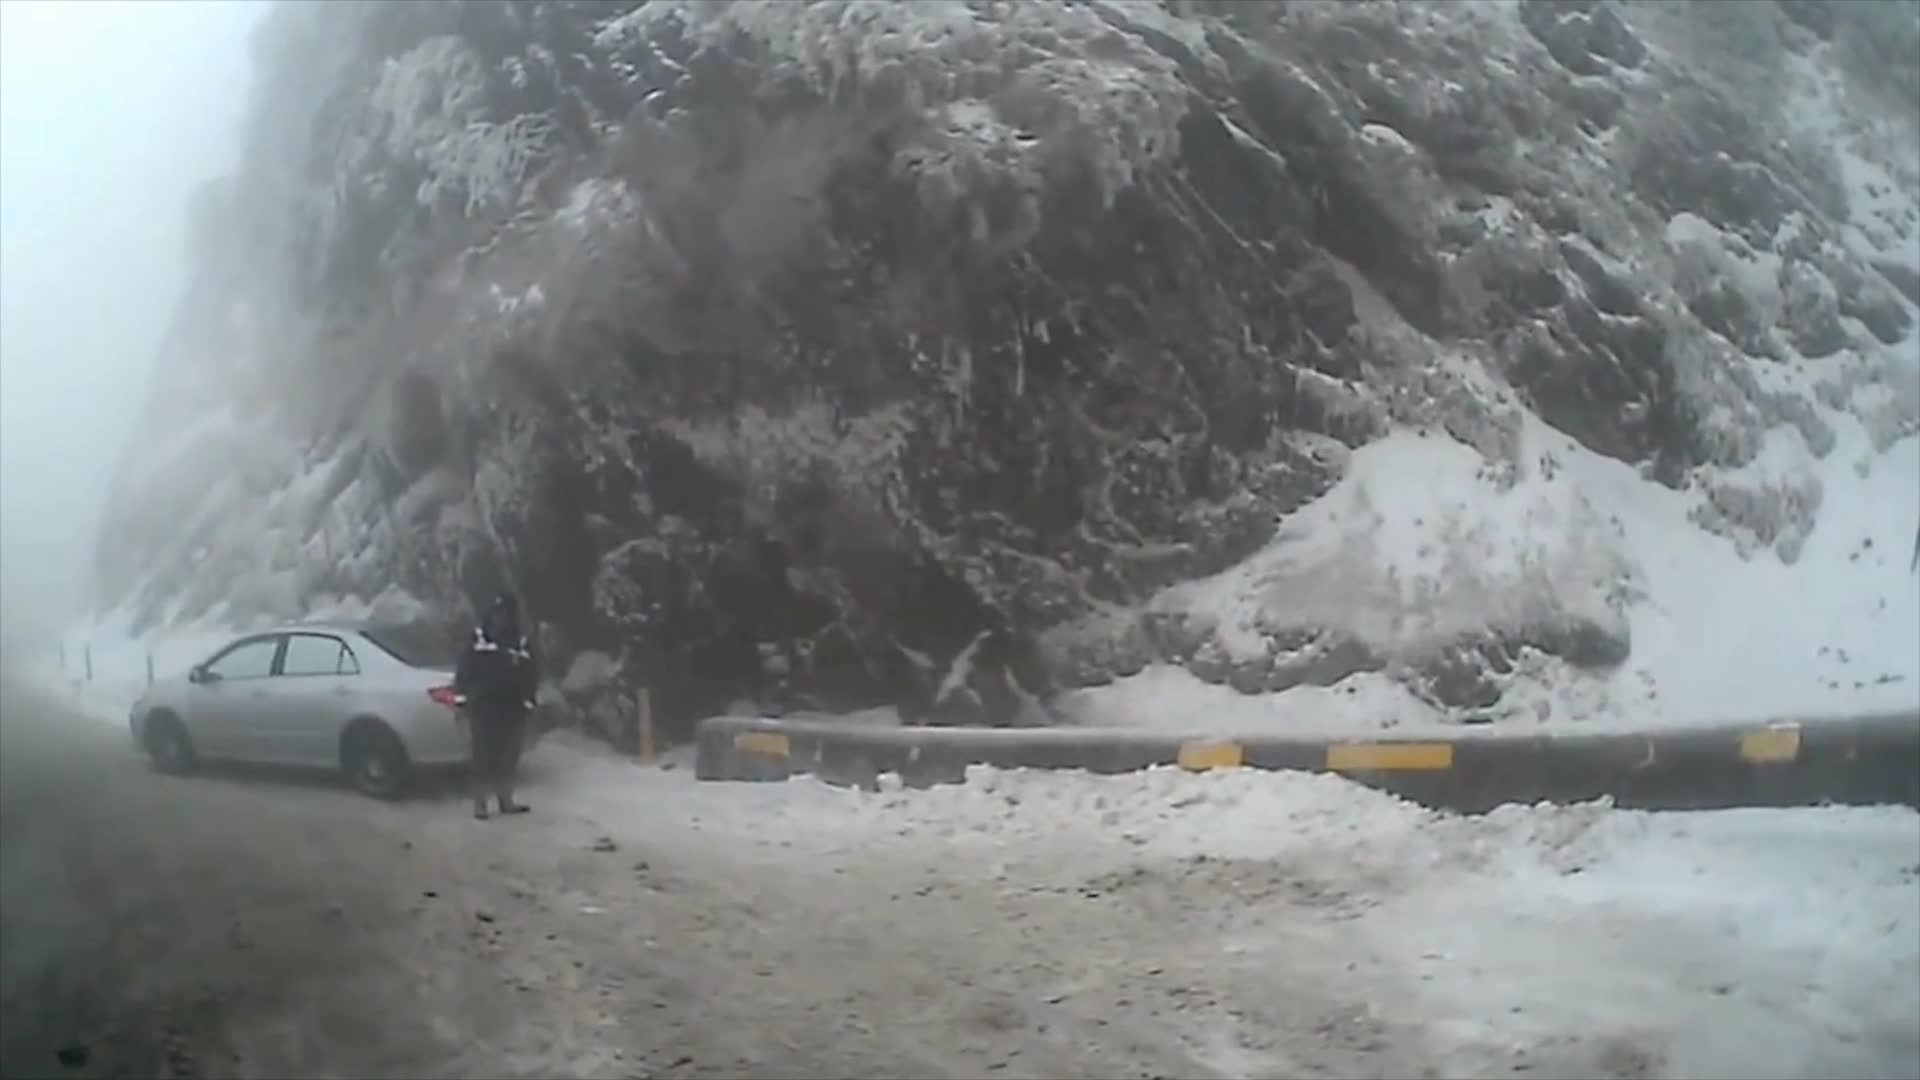pedestrian: (453, 588, 538, 819)
vehicle: (126, 618, 539, 804)
